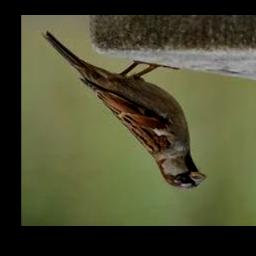Sparrow: (41, 31, 207, 188)
